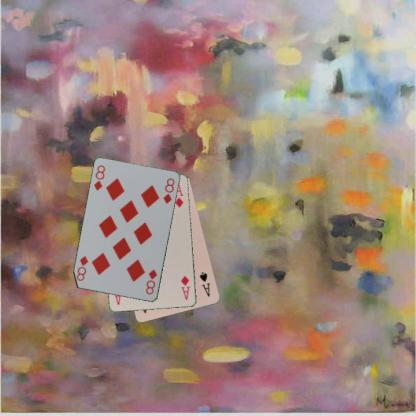8d: (144, 267, 158, 296), (92, 163, 106, 192)
Ad: (179, 273, 191, 301)
As: (197, 269, 211, 298)
